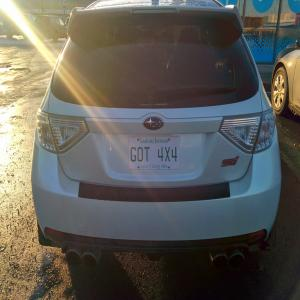Vehicle-registration-plate: (121, 137, 188, 176)
